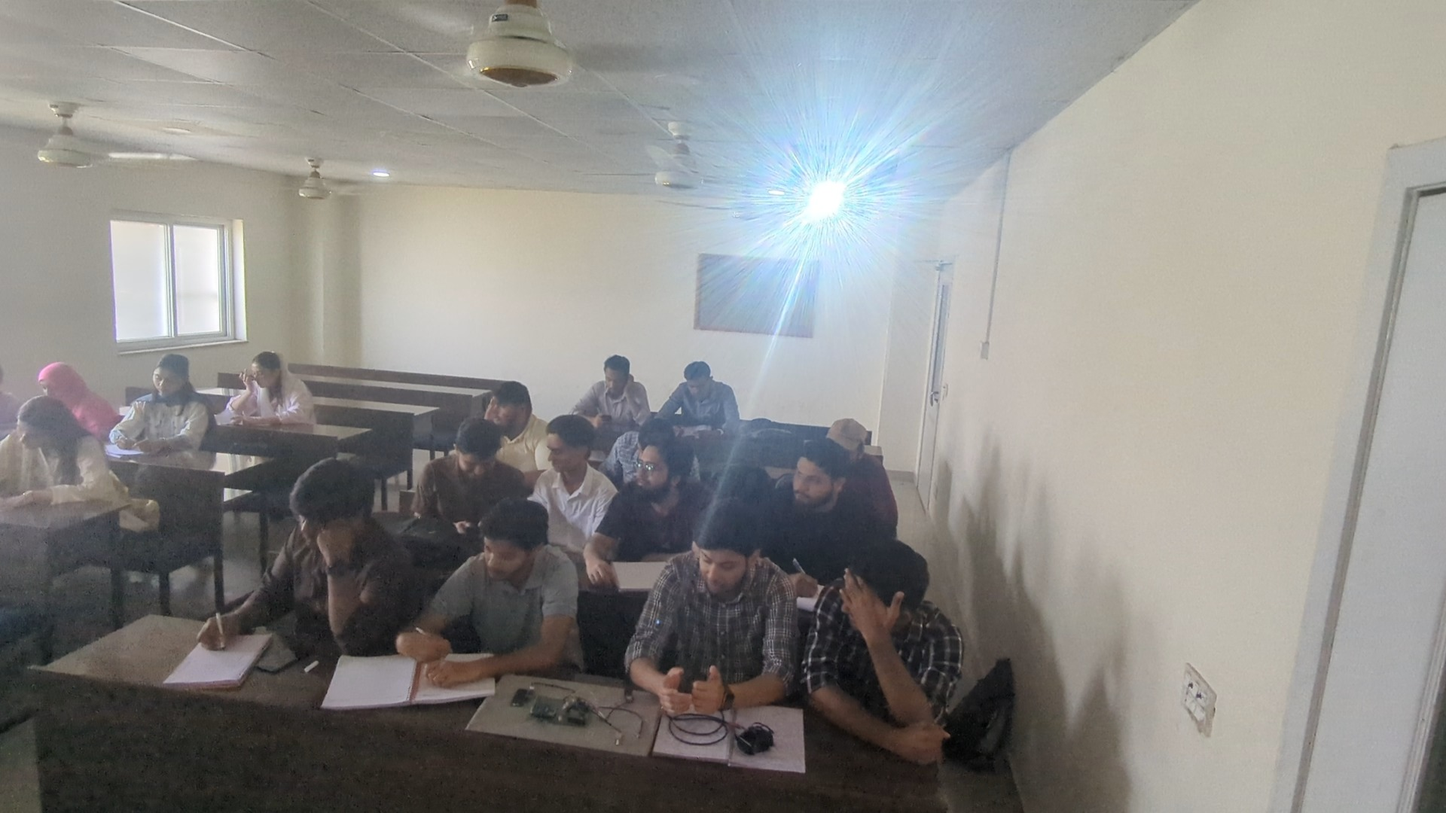look_forward: (757, 438, 873, 565), (620, 426, 700, 549), (527, 417, 600, 508)
read: (680, 522, 783, 758), (680, 361, 739, 434)
sleep: (816, 549, 976, 760), (230, 338, 336, 451)
using_device: (421, 409, 505, 538), (579, 338, 642, 425)
write: (188, 459, 387, 672), (411, 502, 570, 690), (8, 380, 118, 535), (114, 366, 210, 470)
